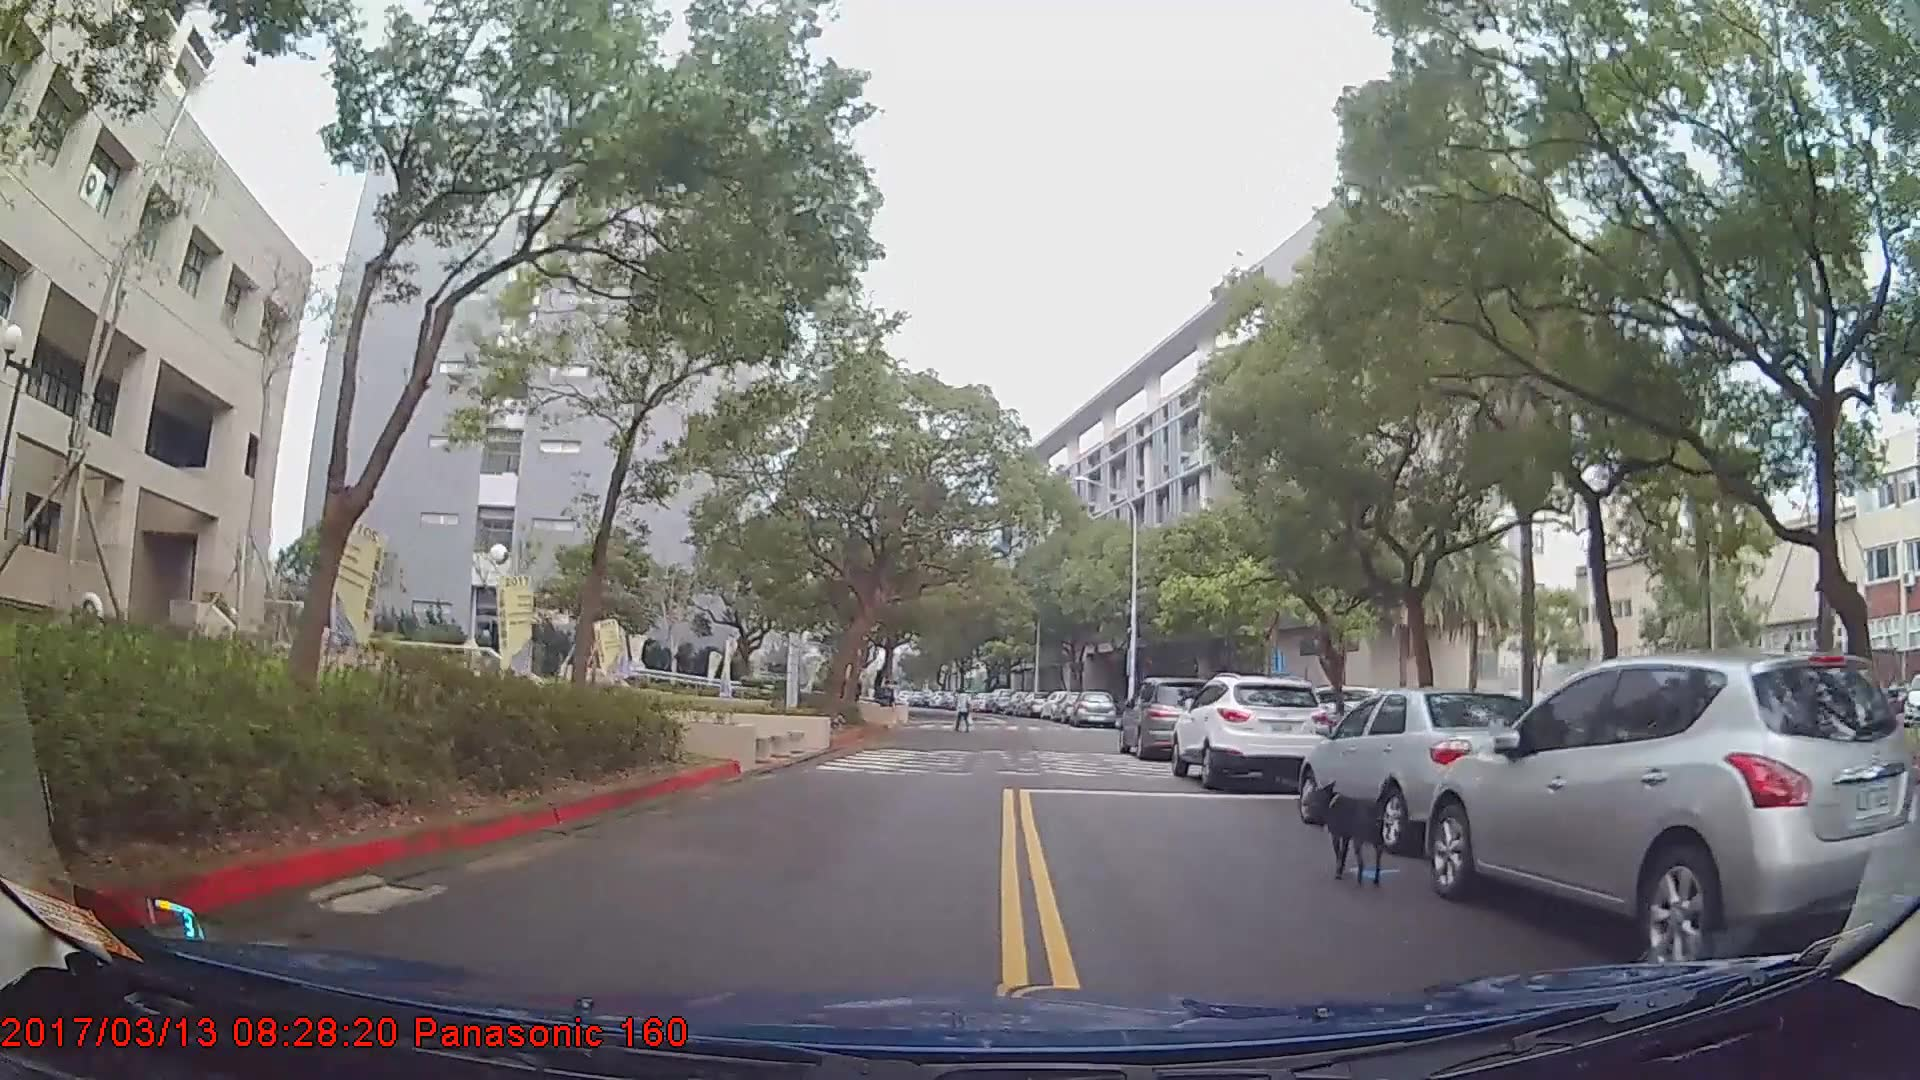pedestrian: (952, 688, 975, 734)
vehicle: (1422, 645, 1920, 978), (1300, 686, 1563, 852), (1170, 670, 1332, 787), (1115, 673, 1229, 755), (1069, 686, 1117, 728), (983, 687, 1013, 713)
